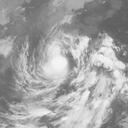cyclone: (22, 32, 109, 117)
